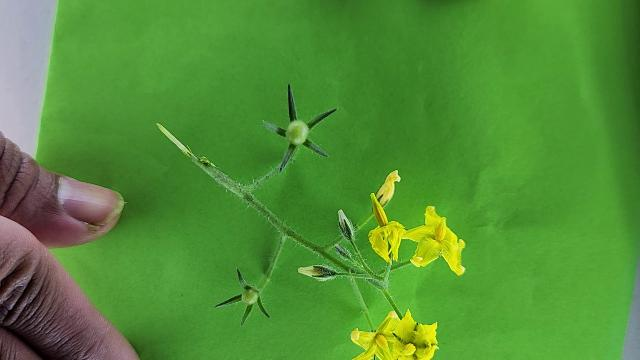Anthesis: (406, 208, 469, 272), (365, 192, 406, 262), (392, 307, 445, 360), (349, 310, 398, 360), (371, 165, 407, 218)
Flower Bud: (296, 263, 339, 284), (332, 242, 352, 261)
Fruit Bud: (284, 118, 312, 148), (241, 285, 261, 307)
